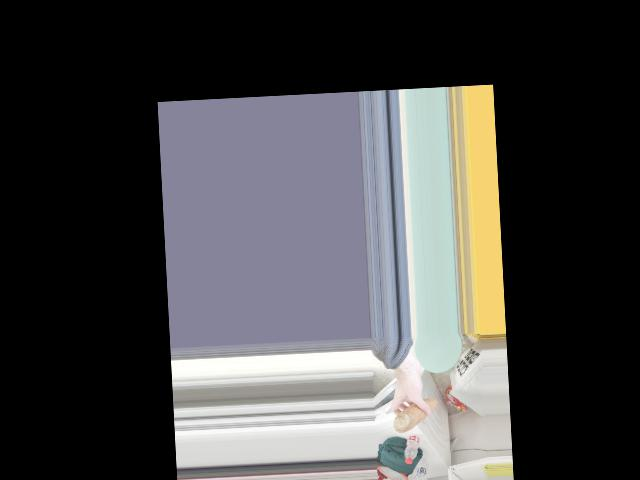sweet_potato: (392, 399, 439, 433)
